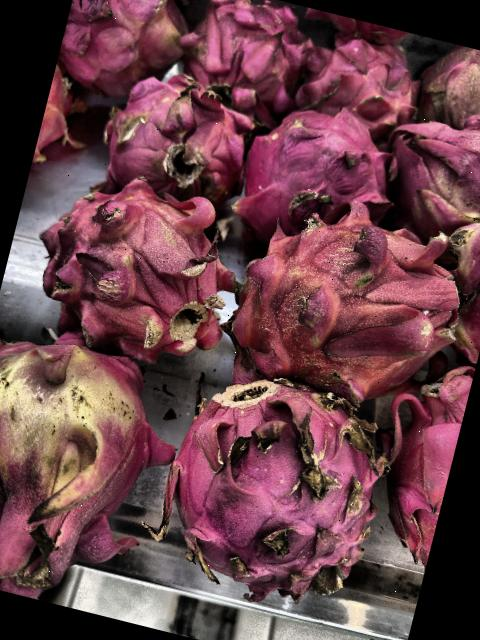buah-naga-belum-matang: (0, 308, 191, 605), (215, 186, 474, 402), (25, 172, 257, 362), (368, 99, 480, 237), (55, 0, 195, 97), (428, 197, 480, 379), (412, 38, 480, 133)
buah-naga-matang: (147, 354, 400, 604), (99, 76, 266, 222), (242, 92, 404, 229), (373, 357, 475, 552), (290, 10, 423, 134), (175, 0, 312, 115)
